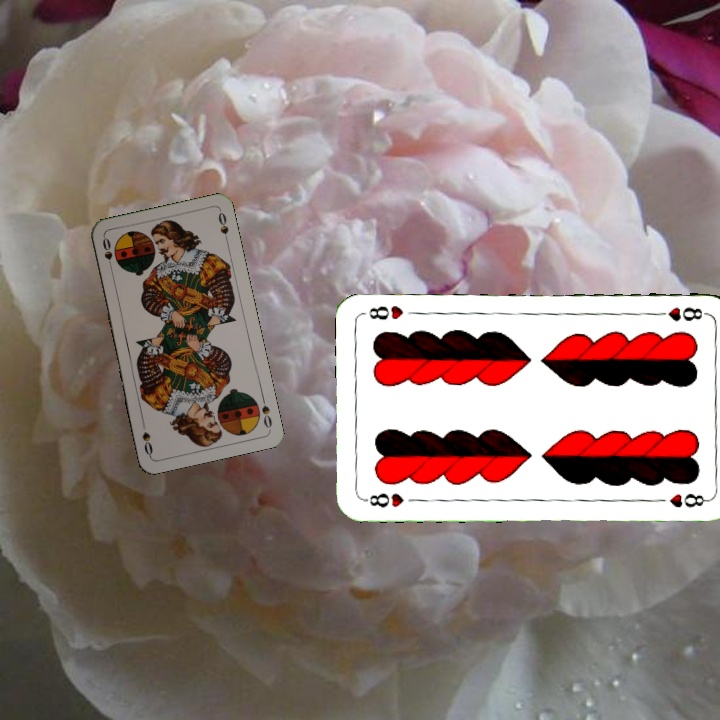H8: (650, 302, 709, 323), (361, 489, 407, 511)
SO: (98, 233, 115, 274), (257, 391, 274, 431)
